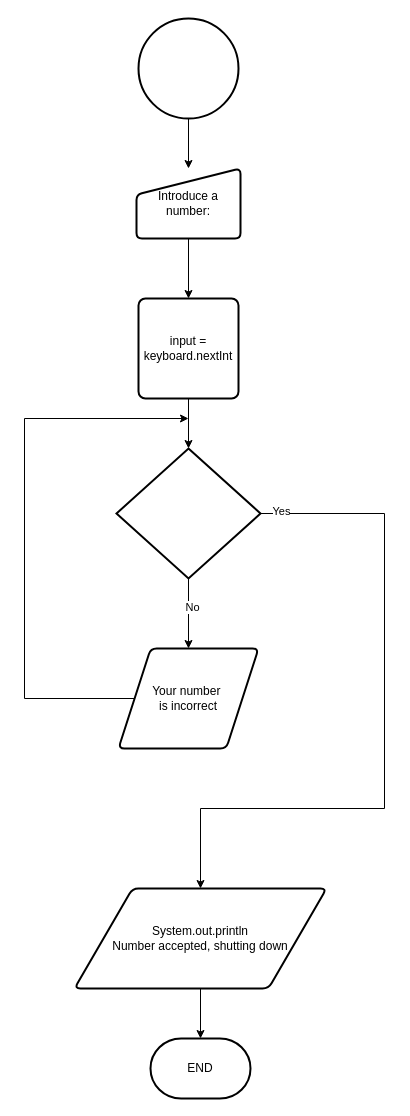
The diagram is 410 pixels wide and 1116 high, and some of its shapes have lost their labels. Here are the shapes that lost their labels. From the top down, the centre of each, then its label:
At pixel 188 68: "START".
At pixel 188 513: "Is input greater than 0".
